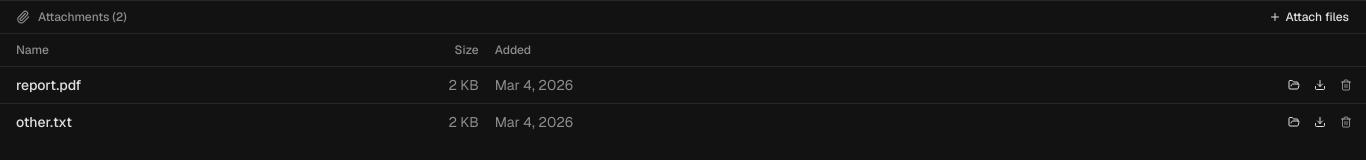
Test: AttachmentsPanel › asks before removing, and removes only on the second click
What coordinates should you click on to do the following:
click the button named "Remove report.pdf"
I would click on:
 (1346, 84)
Its box is [1334, 72, 1358, 96].
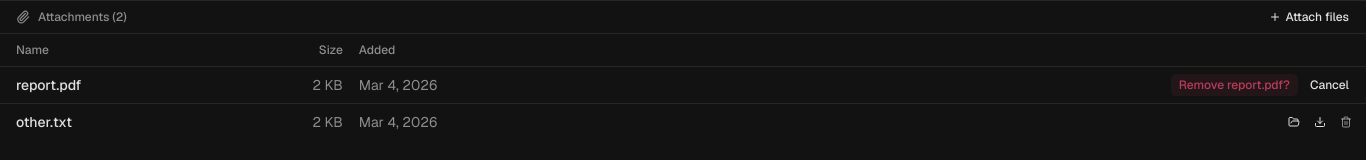
What coordinates should you click on to do the following:
click the button "Remove report.pdf?"
I would click on:
 (1234, 84)
Its box is [1170, 72, 1299, 96].
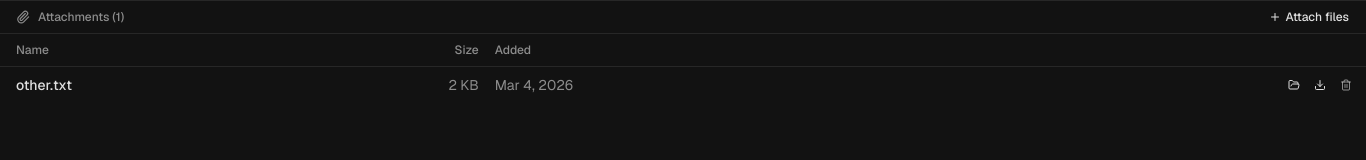
Expected: the text "other.txt" is shown, [0, 66, 269, 102]
Now the text "report.pdf" is gone
